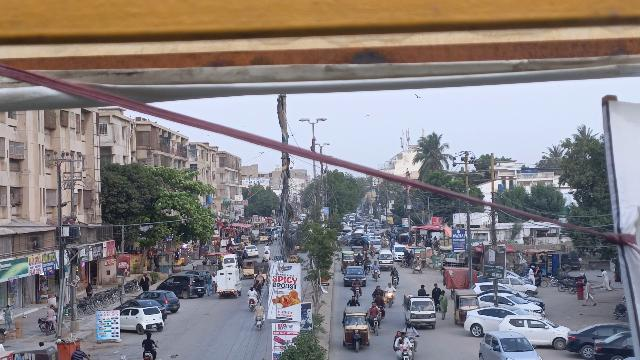Bike: (367, 315, 383, 335), (252, 314, 264, 333), (397, 347, 414, 360), (406, 333, 419, 349), (45, 317, 54, 336), (140, 350, 157, 360), (351, 284, 362, 299), (370, 268, 380, 283), (386, 291, 395, 307), (390, 275, 401, 287), (248, 298, 257, 312)
Car: (496, 313, 572, 350), (563, 323, 629, 357), (476, 330, 544, 360), (464, 304, 512, 337), (478, 293, 544, 316), (119, 306, 166, 334), (591, 331, 632, 360), (156, 274, 205, 298), (343, 264, 368, 287)
Person: (437, 289, 451, 321), (583, 279, 597, 308), (598, 267, 614, 292), (140, 332, 159, 350), (202, 269, 214, 297), (431, 282, 442, 310), (139, 271, 151, 292), (404, 319, 417, 336), (416, 283, 429, 297), (46, 304, 56, 322), (347, 293, 360, 306), (398, 332, 410, 346), (367, 301, 378, 316), (255, 302, 265, 318), (247, 286, 258, 299), (385, 283, 395, 294), (353, 277, 362, 287)
Rickshaw: (340, 305, 372, 352), (452, 287, 478, 327)
Suzuki: (401, 283, 439, 330)
Truck: (215, 268, 243, 300)
